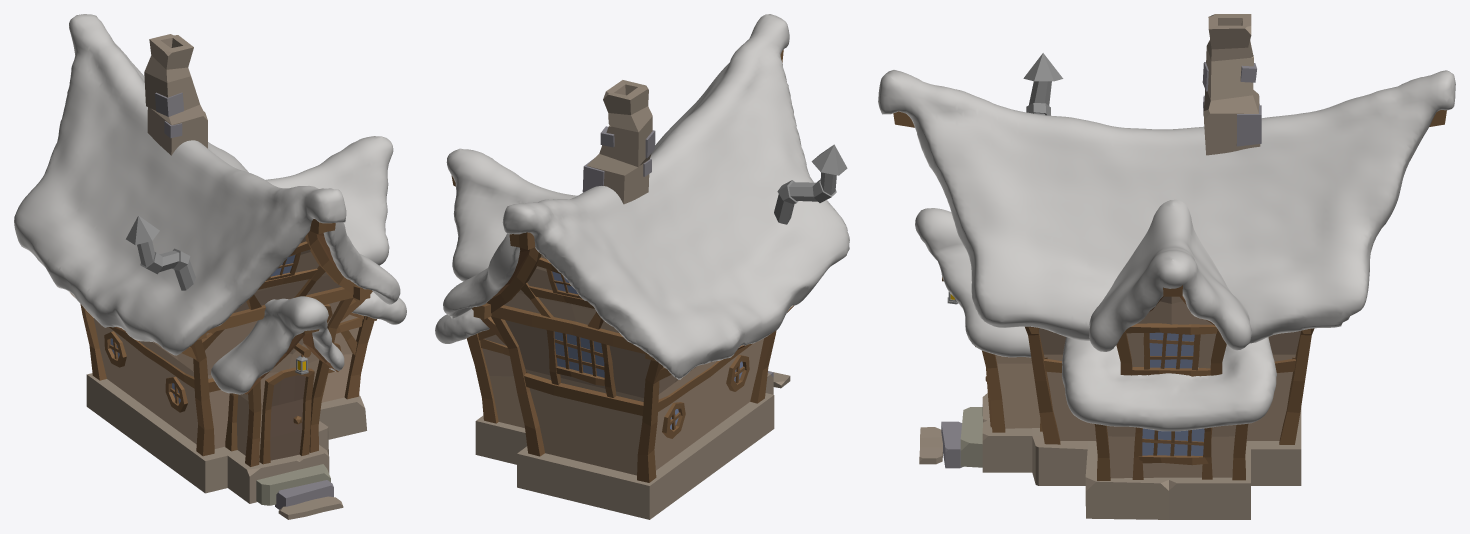
The model's file is House_Full.fbx.
3 renders of one model, left to right at view 1: azimuth 30°, elevation 25°; view 2: azimuth 150°, elevation 25°; view 3: azimuth 270°, elevation 25°, orthographic. The views are drawn at different scales.
Visible parts, largest first — view 1: House_Full; view 2: House_Full; view 3: House_Full.
Boxes of the visible parts, x1,y1,x2,y2 form: House_Full: (14, 14, 406, 519); House_Full: (435, 14, 849, 519); House_Full: (878, 14, 1455, 519).
Size of the model in its own units: 795 by 897 by 1101.
